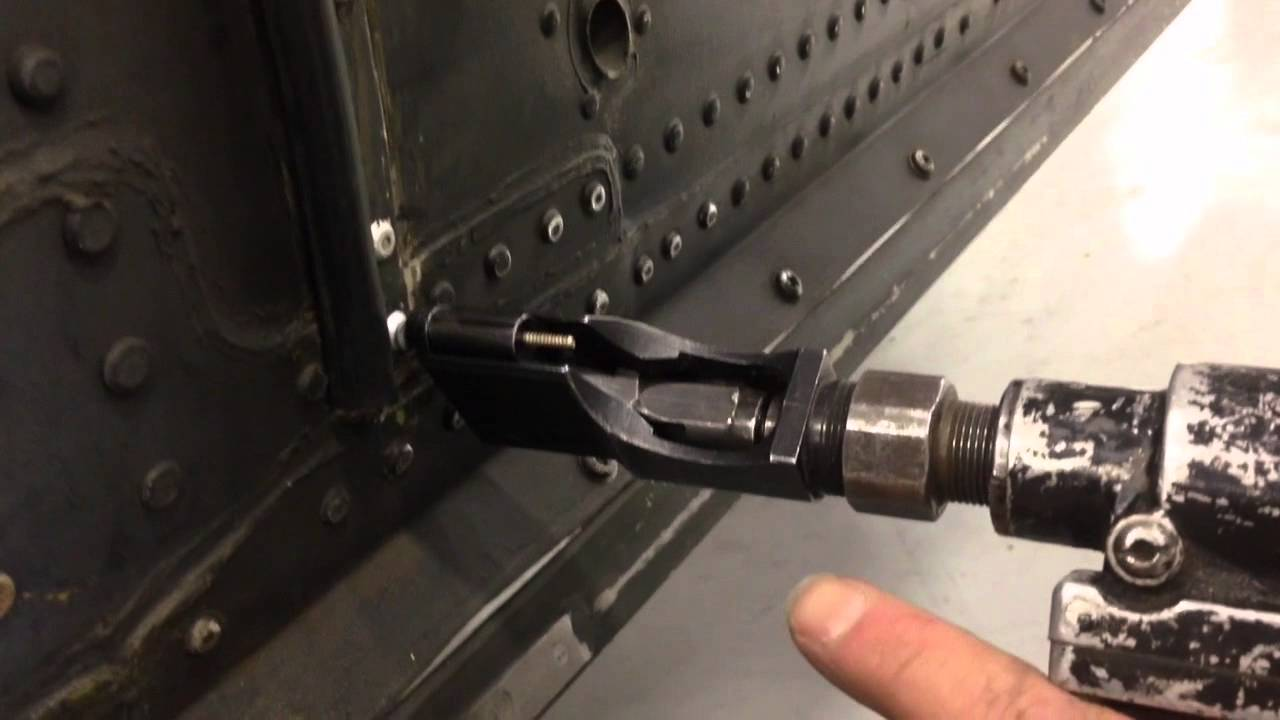bolt: (61, 194, 123, 262), (14, 46, 73, 109)
rivet: (102, 335, 159, 397), (135, 455, 188, 514), (180, 615, 225, 659), (481, 241, 518, 283), (384, 438, 419, 478), (297, 361, 332, 401), (425, 272, 458, 311), (542, 207, 568, 249), (324, 491, 355, 525), (731, 70, 759, 105), (631, 4, 657, 40), (540, 1, 564, 40), (620, 145, 646, 181), (373, 223, 398, 260), (700, 95, 726, 130), (581, 182, 607, 216), (578, 91, 603, 122), (759, 154, 784, 185), (664, 120, 686, 155), (632, 254, 656, 286), (766, 51, 789, 84), (697, 199, 719, 231), (589, 289, 612, 319), (824, 13, 846, 44), (731, 179, 753, 210), (795, 34, 818, 62), (788, 131, 810, 160), (953, 12, 977, 38), (664, 231, 684, 261), (843, 93, 863, 122), (867, 77, 886, 104), (818, 112, 837, 139), (889, 61, 909, 85), (909, 41, 928, 66), (850, 2, 870, 25), (931, 27, 949, 50)
screw: (1110, 510, 1182, 590), (774, 264, 807, 302), (908, 147, 938, 181), (1008, 54, 1035, 88)
